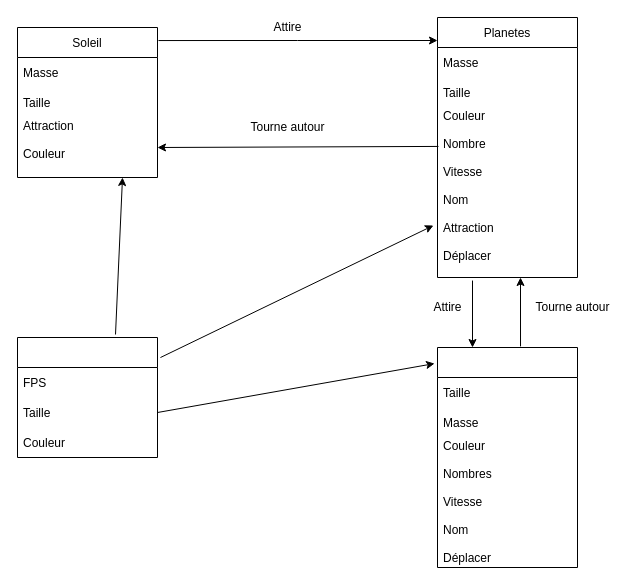
This 635x585 diagram has some shape labels left out. The box of each missing label's shape, as (x1, y1, x2, y2) in pixels:
Ecran: (16, 336, 158, 458)
Satelites: (436, 346, 578, 568)
